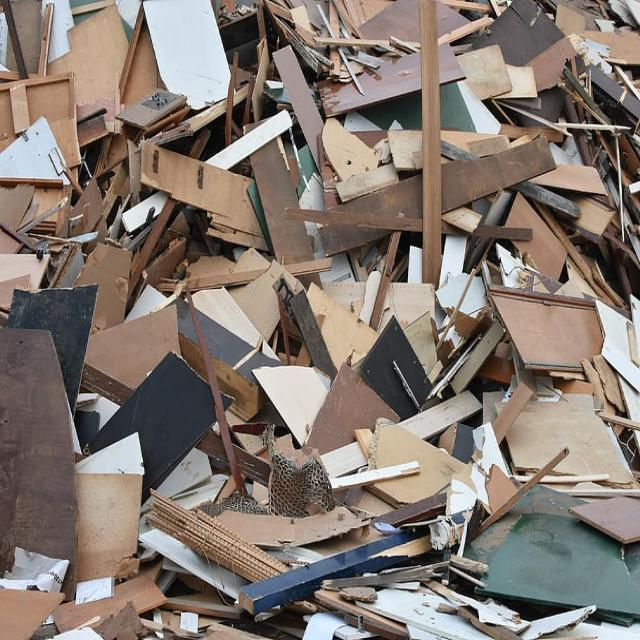green waste: (2, 0, 638, 640)
